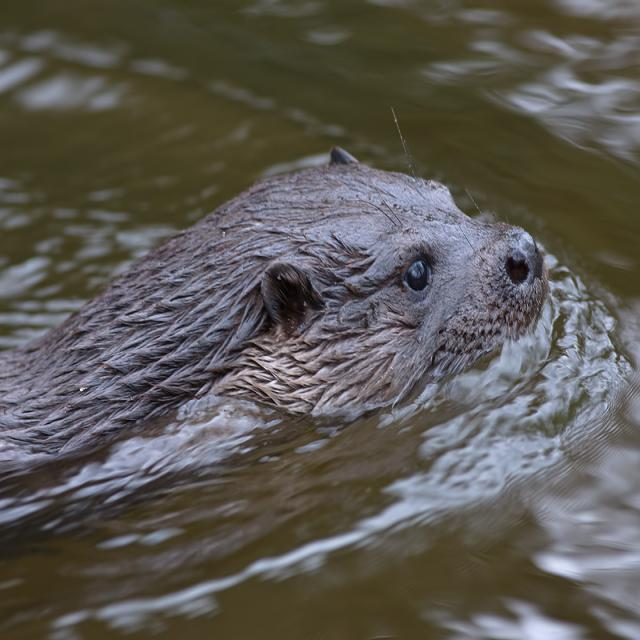otter: (59, 157, 546, 428)
